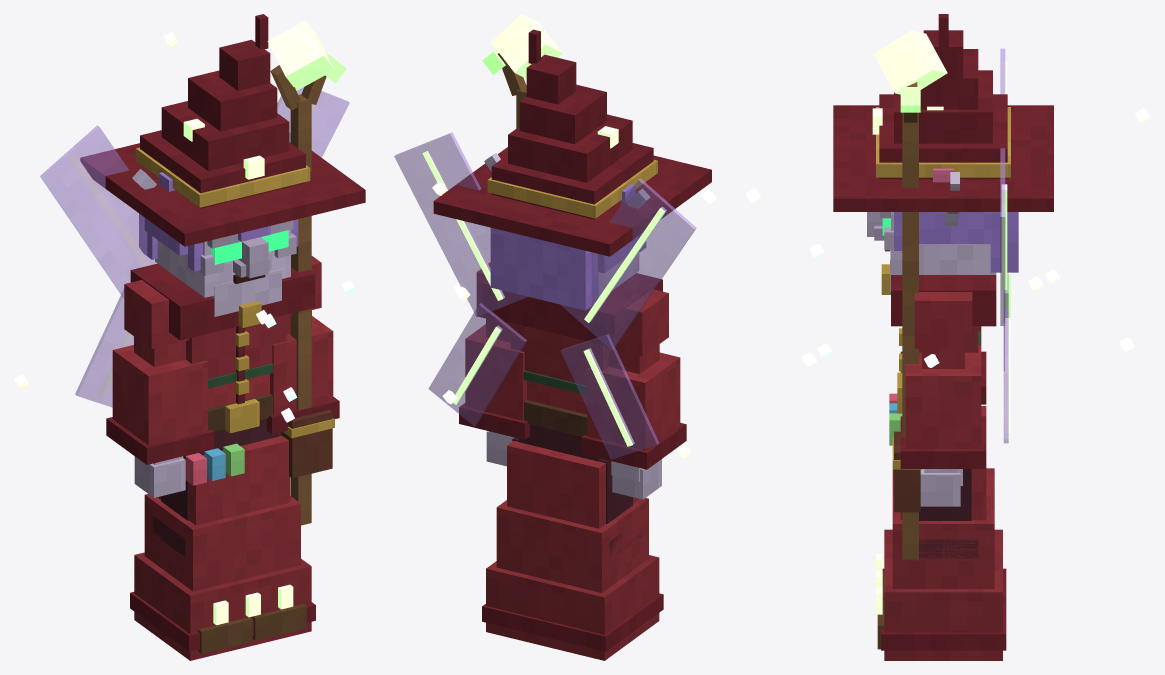
The model's file is fairy_mage_v3.glb.
3 views of the same model, side by side, from view 1: azimuth 30°, elevation 25°; view 2: azimuth 150°, elevation 25°; view 3: azimuth 270°, elevation 25° (orthographic). The views are drawn at different scales.
Parts seen in each view (by area): view 1: Head, Torso, Root, ArmR, HandL, ArmL, LegR, LegL; view 2: Torso, Head, Root, ArmR, ArmL, HandL, LegR; view 3: Head, Root, ArmL, Torso, HandL, LegL.
Boxes of the visible parts, x1,y1,x2,y2 form: Head: [80, 14, 365, 316]; Torso: [14, 32, 355, 485]; Root: [130, 435, 315, 660]; ArmR: [106, 280, 214, 497]; HandL: [267, 20, 346, 525]; ArmL: [266, 256, 339, 434]; LegR: [152, 453, 252, 653]; LegL: [252, 432, 306, 640]; Torso: [394, 132, 716, 461]; Head: [433, 29, 711, 310]; Root: [482, 441, 663, 660]; ArmR: [581, 289, 686, 499]; ArmL: [459, 262, 529, 466]; HandL: [482, 14, 562, 128]; LegR: [598, 458, 641, 557]; Head: [833, 14, 1053, 292]; Root: [876, 406, 1006, 660]; ArmL: [900, 292, 986, 506]; Torso: [745, 48, 1150, 512]; HandL: [873, 30, 947, 559]; LegL: [877, 469, 978, 649].
Bounding box in the file's own units: 0.7287 × 1.32 × 0.7622.
46 materials, 46 textured.
